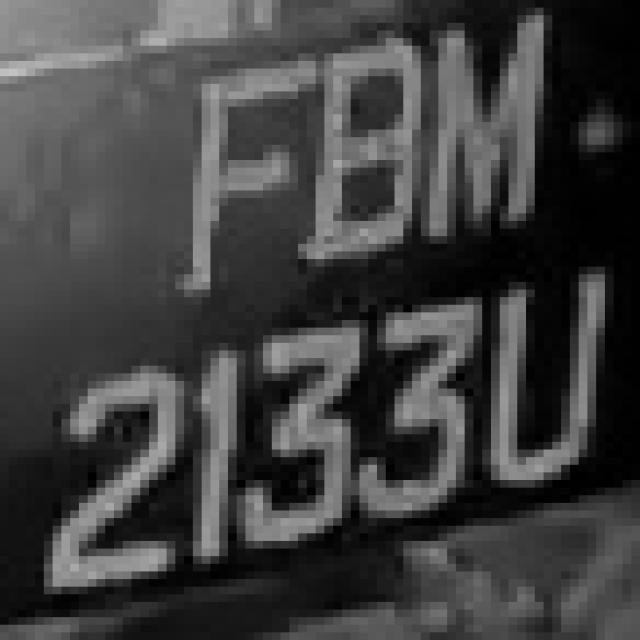1: (176, 335, 254, 587)
2: (52, 350, 202, 586)
3: (237, 297, 368, 556), (368, 282, 491, 510)
B: (298, 15, 438, 267)
F: (166, 46, 324, 297)
M: (438, 8, 570, 221)
U: (482, 266, 623, 488)
